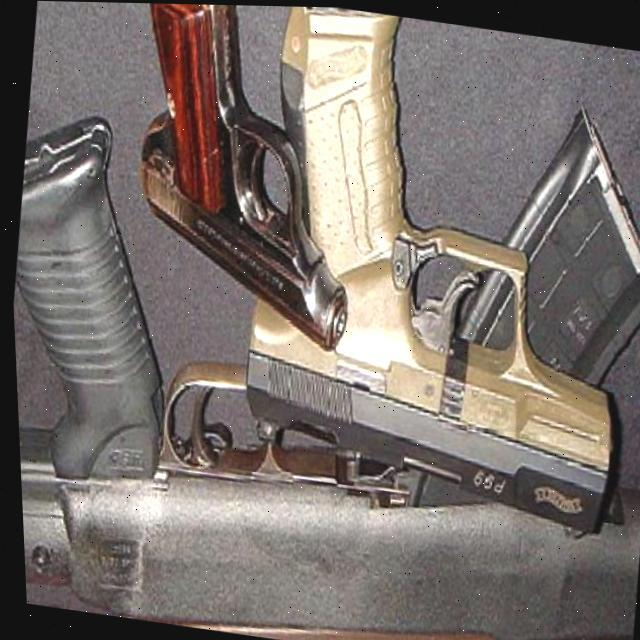gun: (215, 4, 640, 548), (109, 2, 384, 356)
